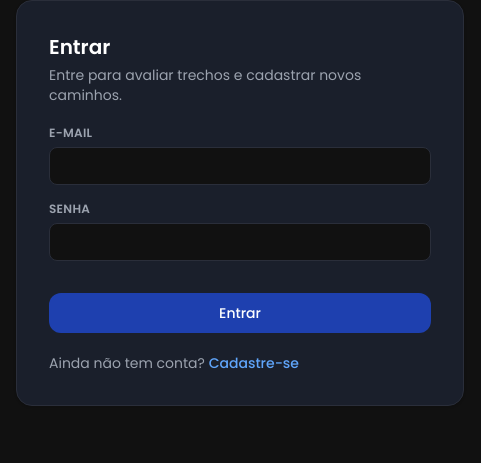
Scenario: Login › mostra mensagem de conexão quando não há resposta do servidor
Type "ana@exemplo.com" into the field labelled "E-mail" at (240, 166), box [49,147,431,185]
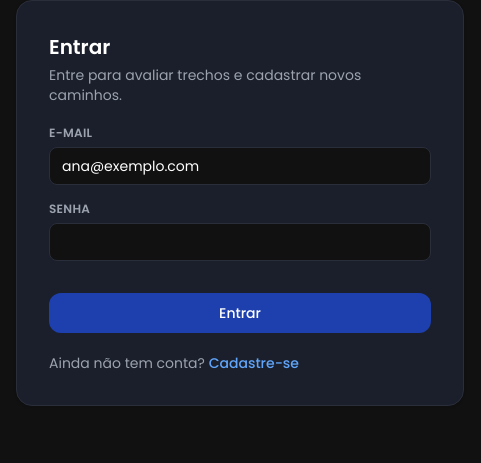
Type "senha-segura" into the password field labelled "Senha" at (240, 242), box [49,223,431,261]
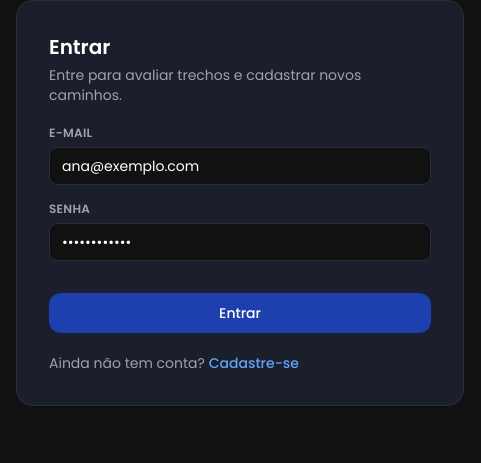
Click the button "Entrar" at (240, 313), box [49,293,431,333]
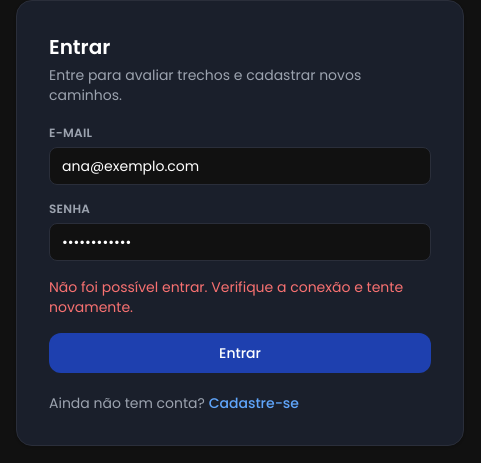
Check: the message shows "Verifique a conexão", box [49,277,403,317]
